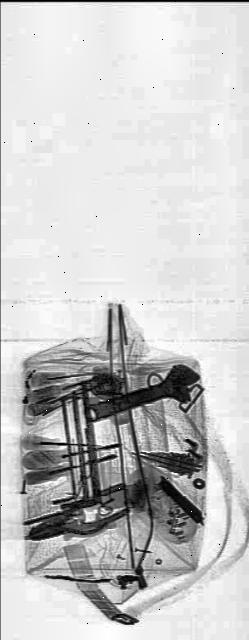Pliers: (28, 492, 106, 556)
Wrench: (83, 356, 203, 438)
